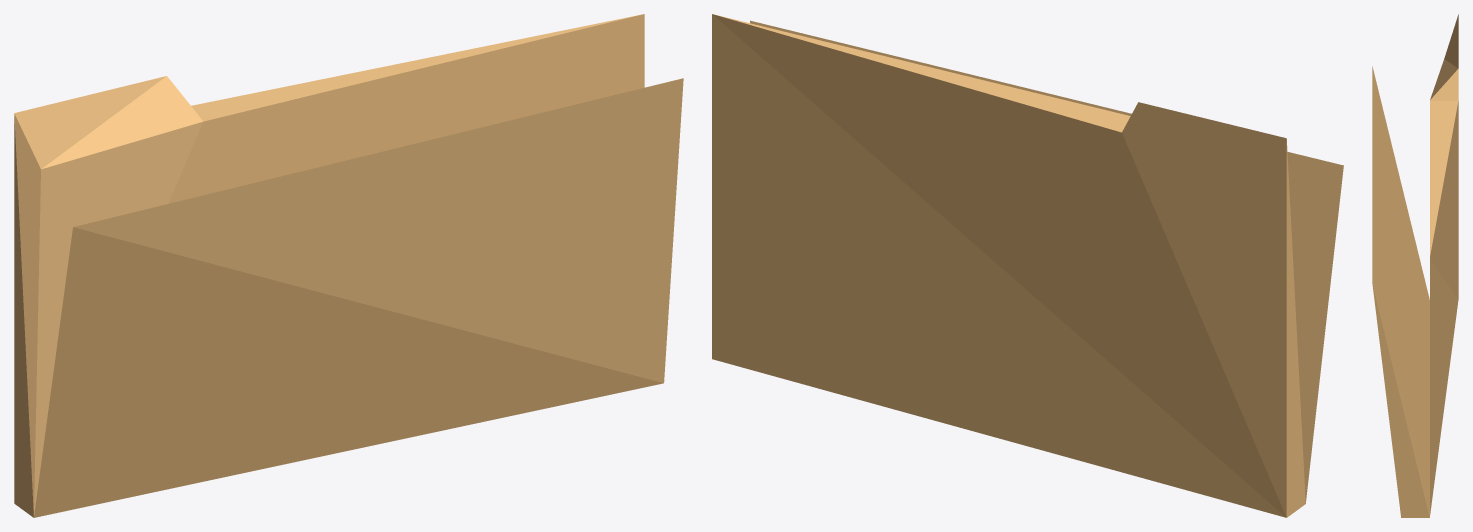
Rendered from Folder.glb.
3 renders of one model, left to right at view 1: azimuth 30°, elevation 25°; view 2: azimuth 150°, elevation 25°; view 3: azimuth 270°, elevation 25°, orthographic. The views are drawn at different scales.
Parts seen in each view (by area): view 1: group381717428, group932501492; view 2: group932501492, group381717428; view 3: group381717428, group932501492.
Boxes of the visible parts, bbox=[...] form: group381717428: bbox=[34, 78, 683, 517]; group932501492: bbox=[14, 14, 644, 517]; group932501492: bbox=[712, 14, 1305, 517]; group381717428: bbox=[750, 20, 1343, 503]; group381717428: bbox=[1372, 66, 1429, 517]; group932501492: bbox=[1430, 14, 1458, 514].
Size of the model in its own units: 0.18 by 0.11 by 0.03.
